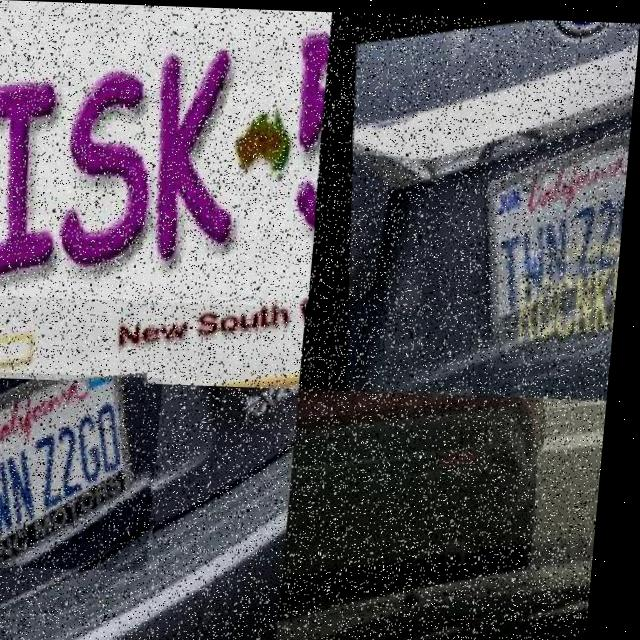LicensePlate: (0, 0, 333, 305), (0, 371, 170, 571)
